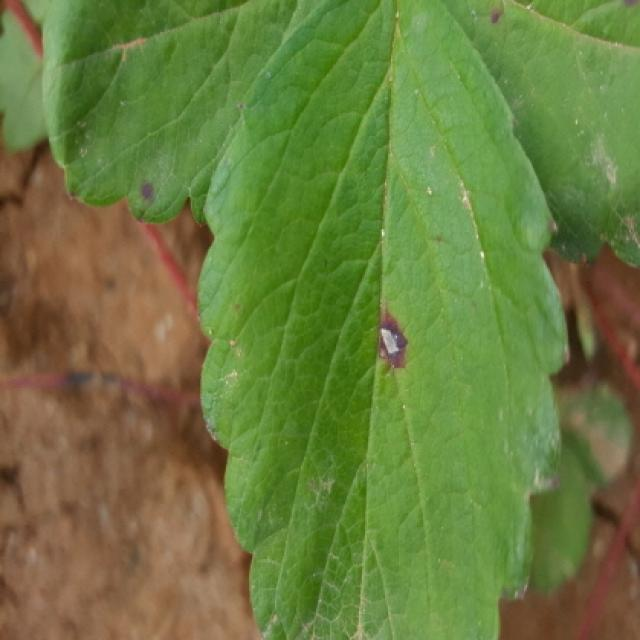Leaf Spot: (195, 0, 570, 638), (41, 0, 319, 231), (441, 0, 638, 268)
